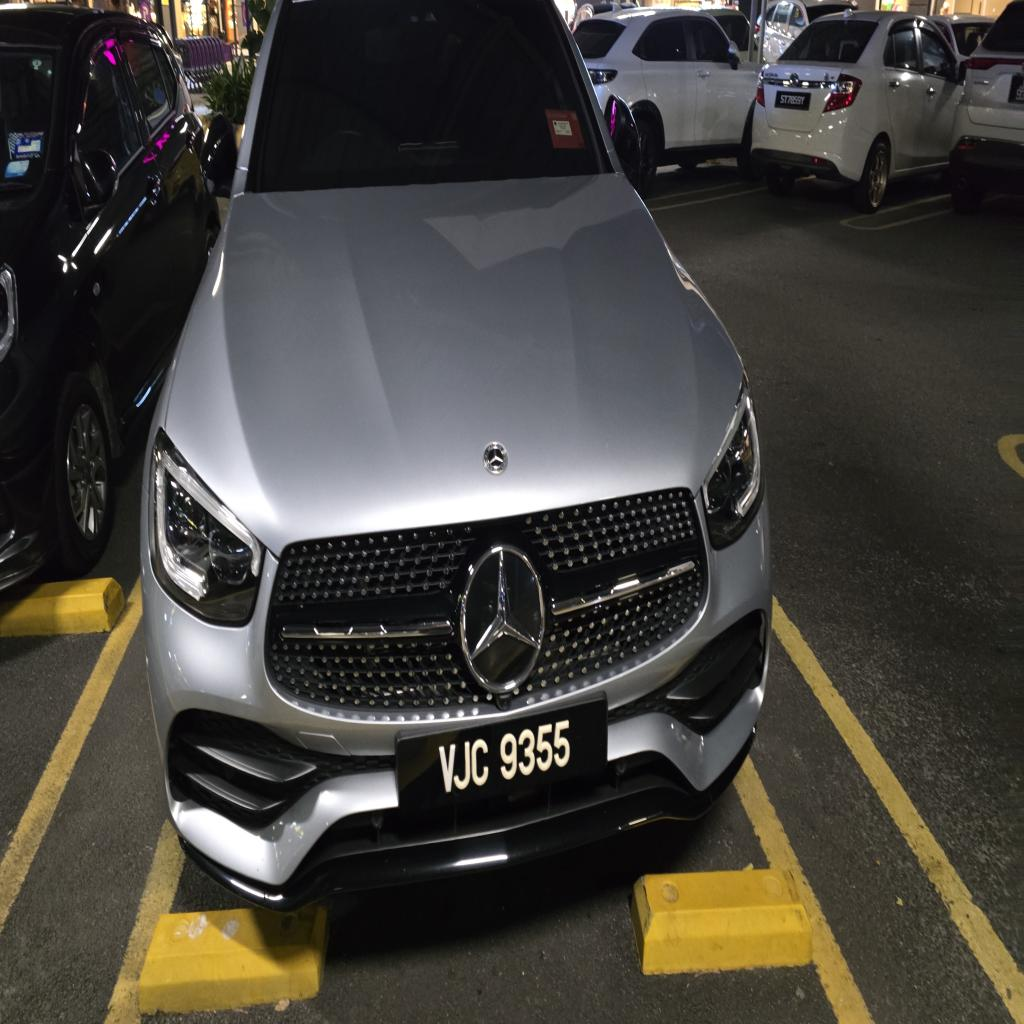car: (141, 0, 771, 908), (752, 12, 963, 212)
car plate: (396, 696, 607, 809), (775, 90, 810, 110)
